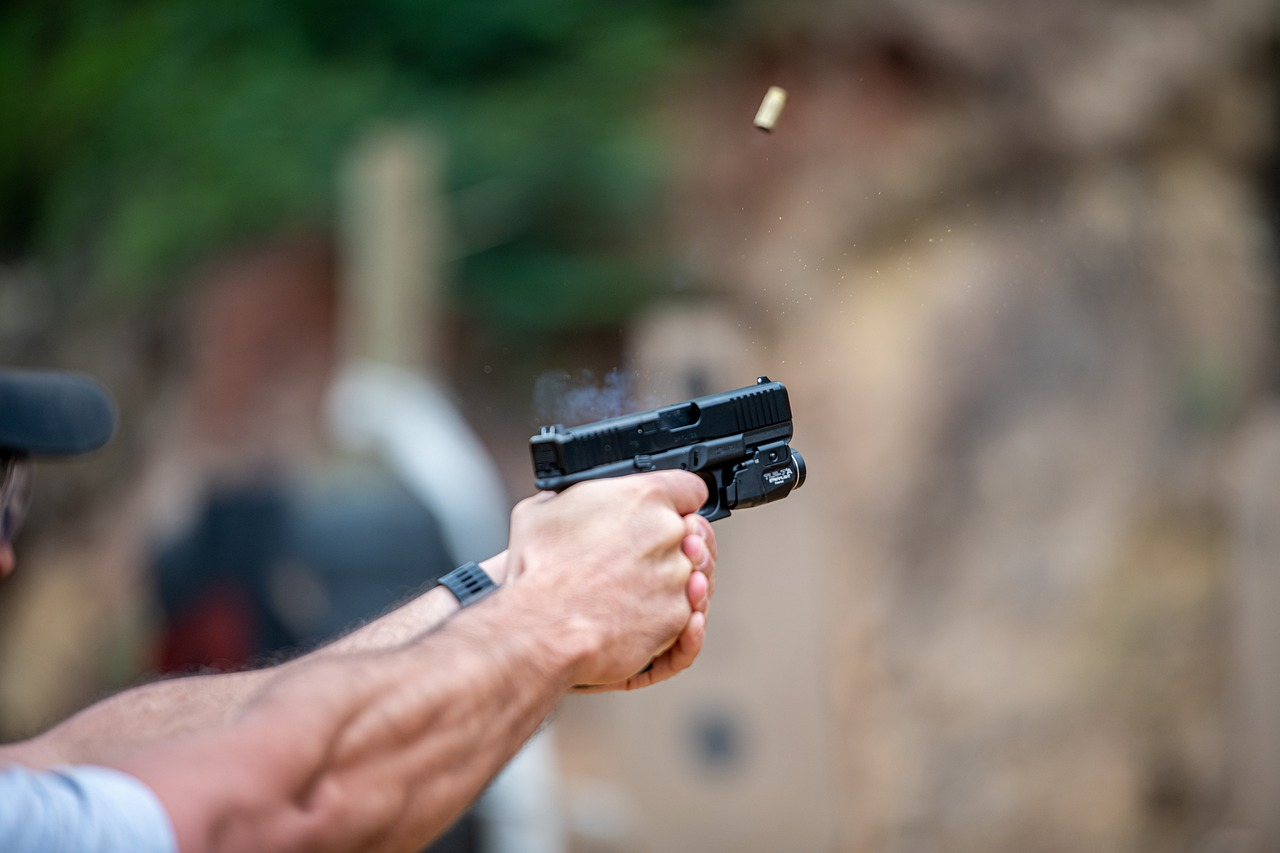gun: (522, 371, 810, 532)
